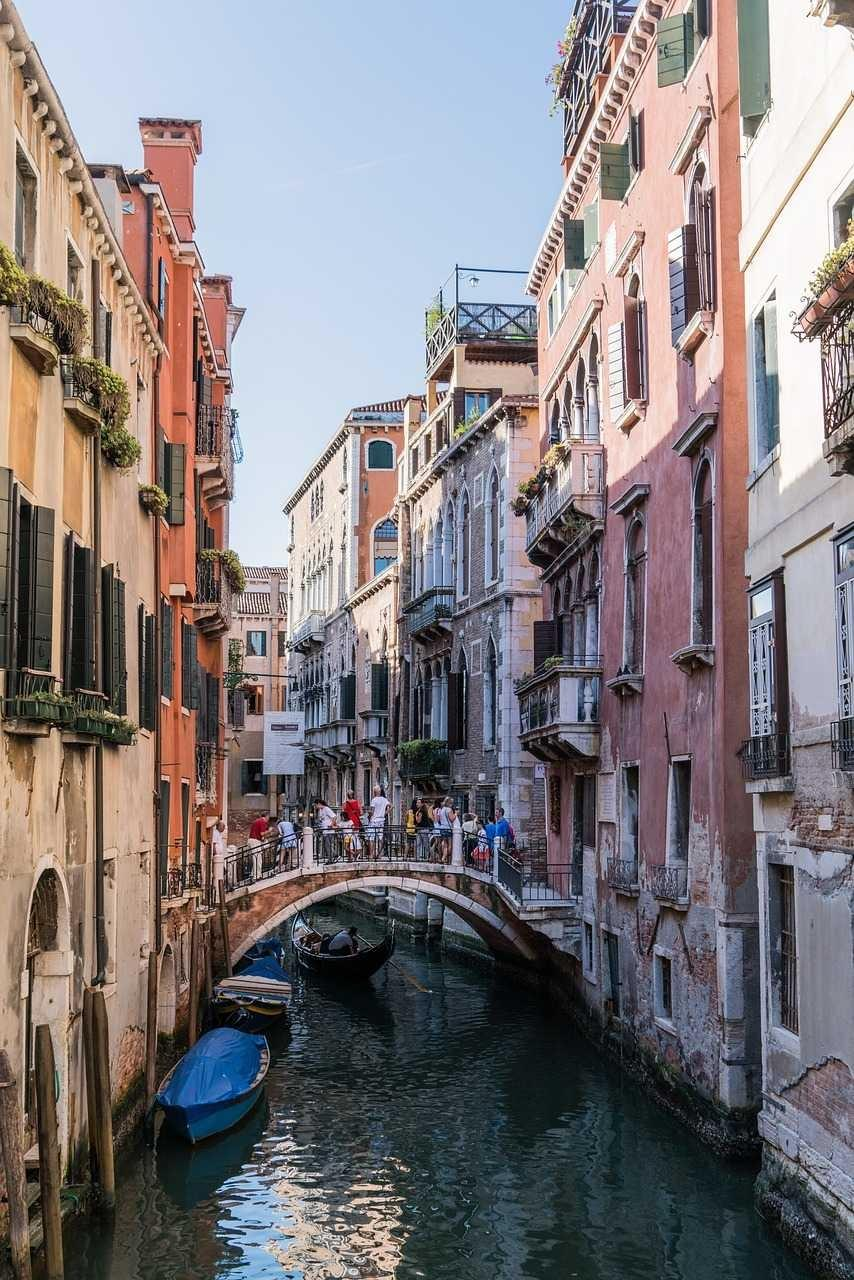kayak: (151, 1025, 271, 1145), (209, 953, 292, 1029), (292, 930, 394, 983)
